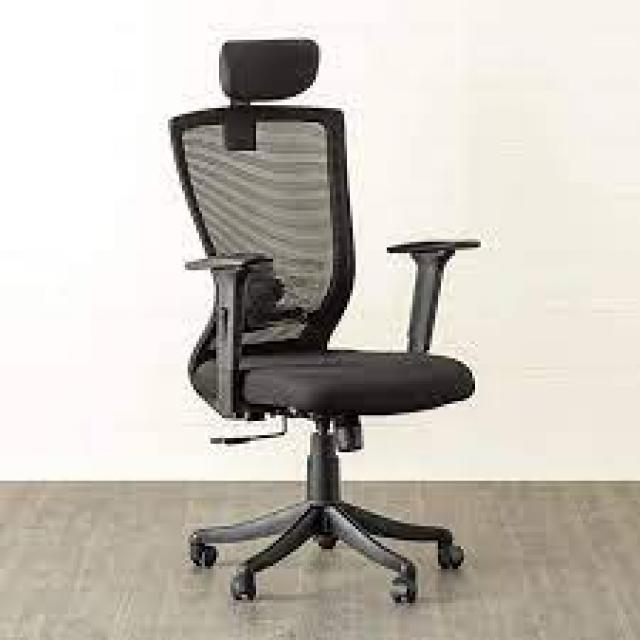chair: (136, 13, 496, 635)
